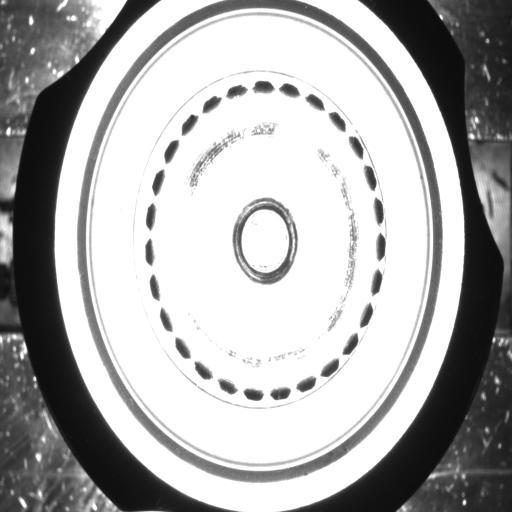gear: (140, 74, 392, 409)
